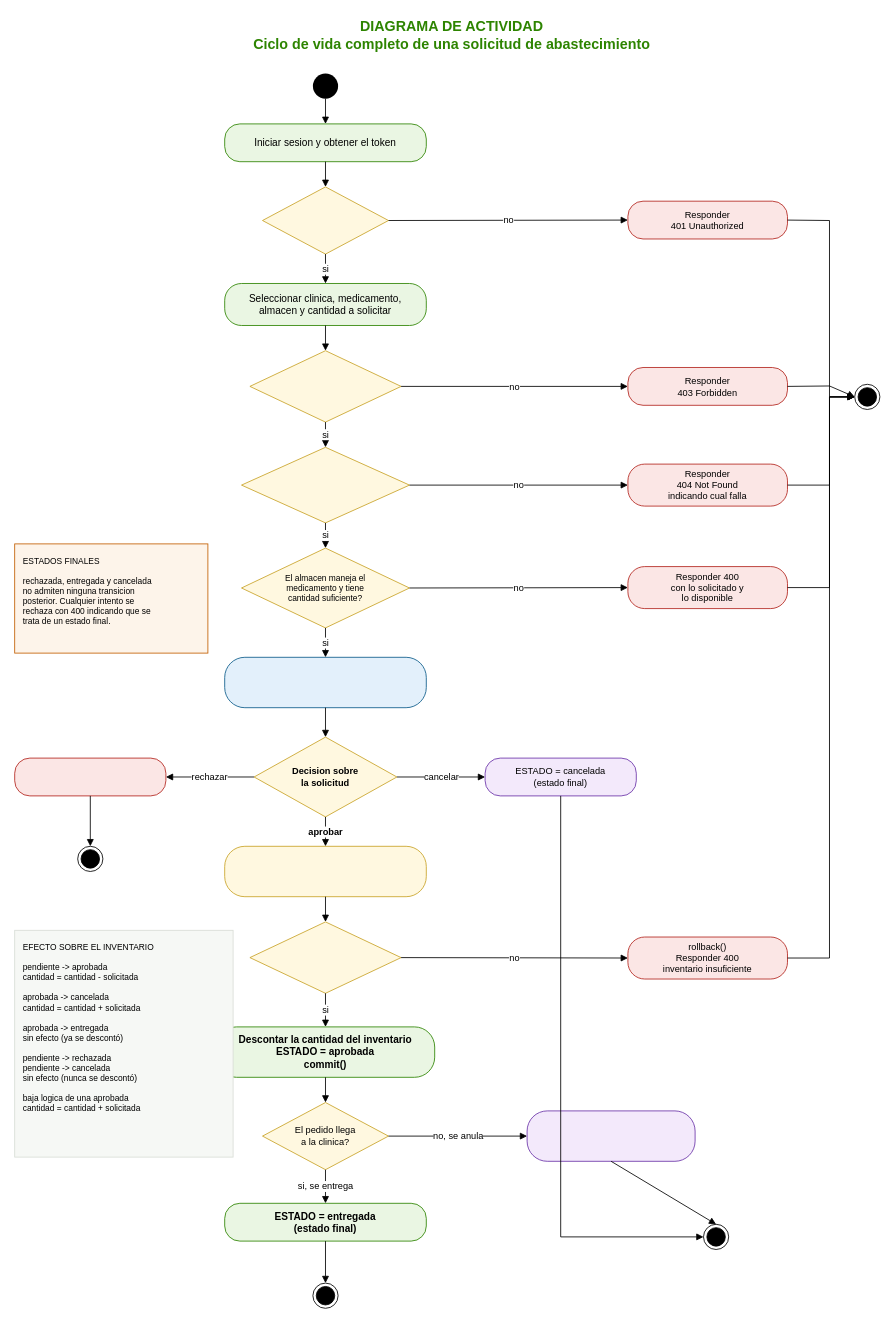
This 895x1323 diagram has some shape labels left out. Here are the shapes that lost their labels. From the top down, the box of each, then its label:
(262, 186, 388, 254): Credenciales validas?
(249, 350, 401, 422): Rol autorizado? (gestor o administrador)
(241, 446, 410, 523): Clinica, medicamento y almacen existen y activos?
(224, 656, 426, 708): Crear la solicitud ESTADO = pendiente (no se descuenta inventario)
(14, 757, 166, 796): ESTADO = rechazada (estado final)
(224, 845, 426, 897): Abrir transaccion y bloquear la fila del inventario SELECT ... FOR UPDATE
(249, 921, 401, 993): Sigue habiendo inventario suficiente?
(526, 1110, 695, 1161): Reintegrar la cantidad al inventario ESTADO = cancelada
